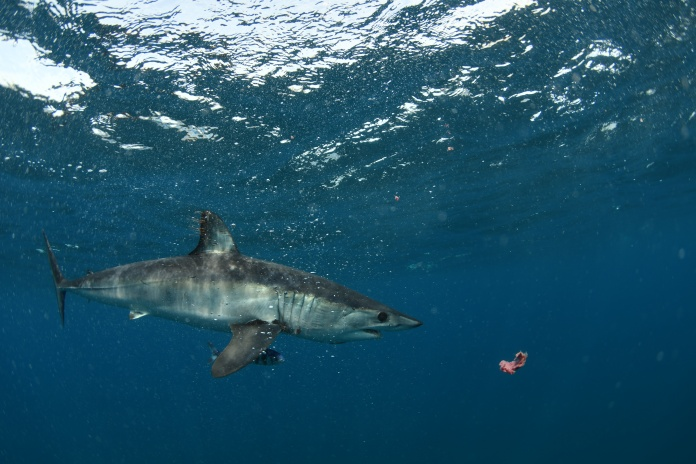Mako: (23, 208, 434, 380)
